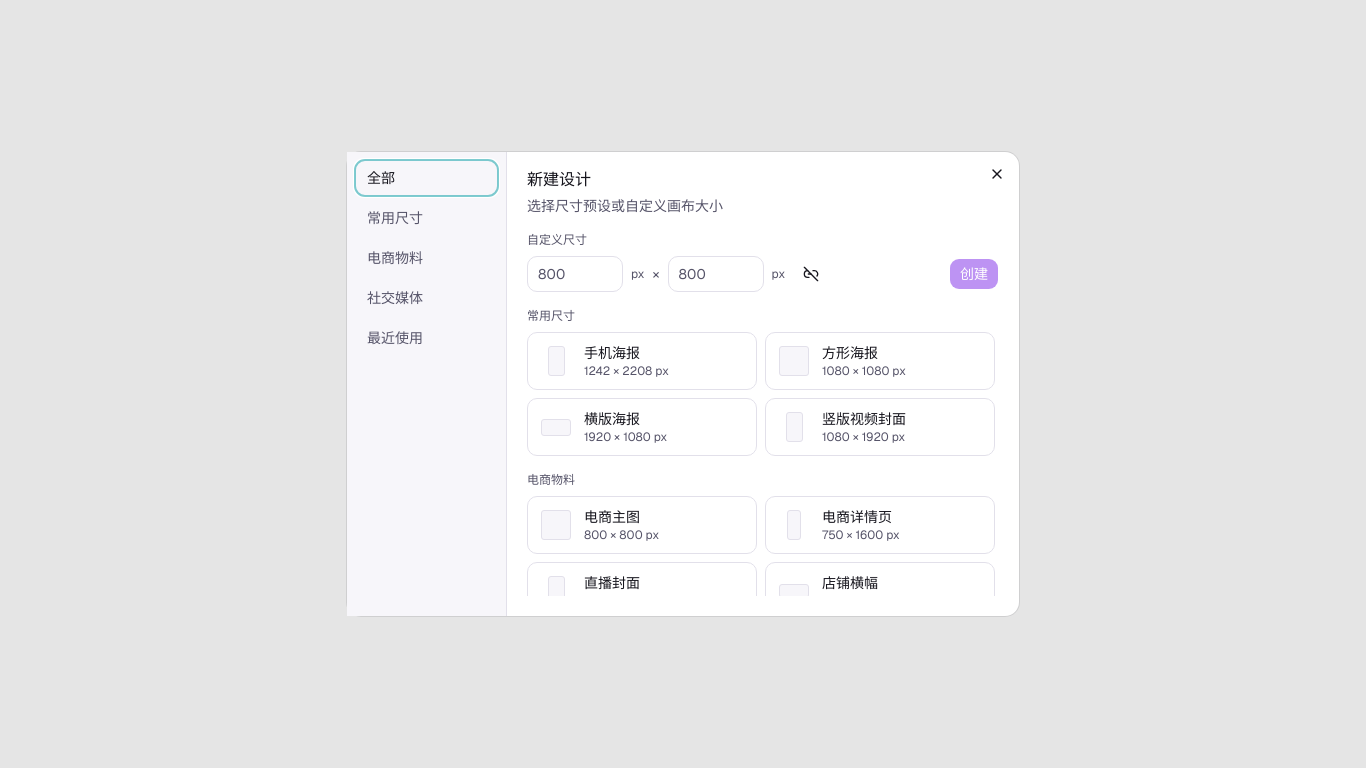
Scenario: 尺寸前置设置弹窗 › 分类切换：社交媒体只显示该组预设
What coordinates should you click on to do the following:
click the button with test id "design-category-social"
I would click on:
 (426, 298)
Its box is top-left (355, 280), bottom-right (498, 316).
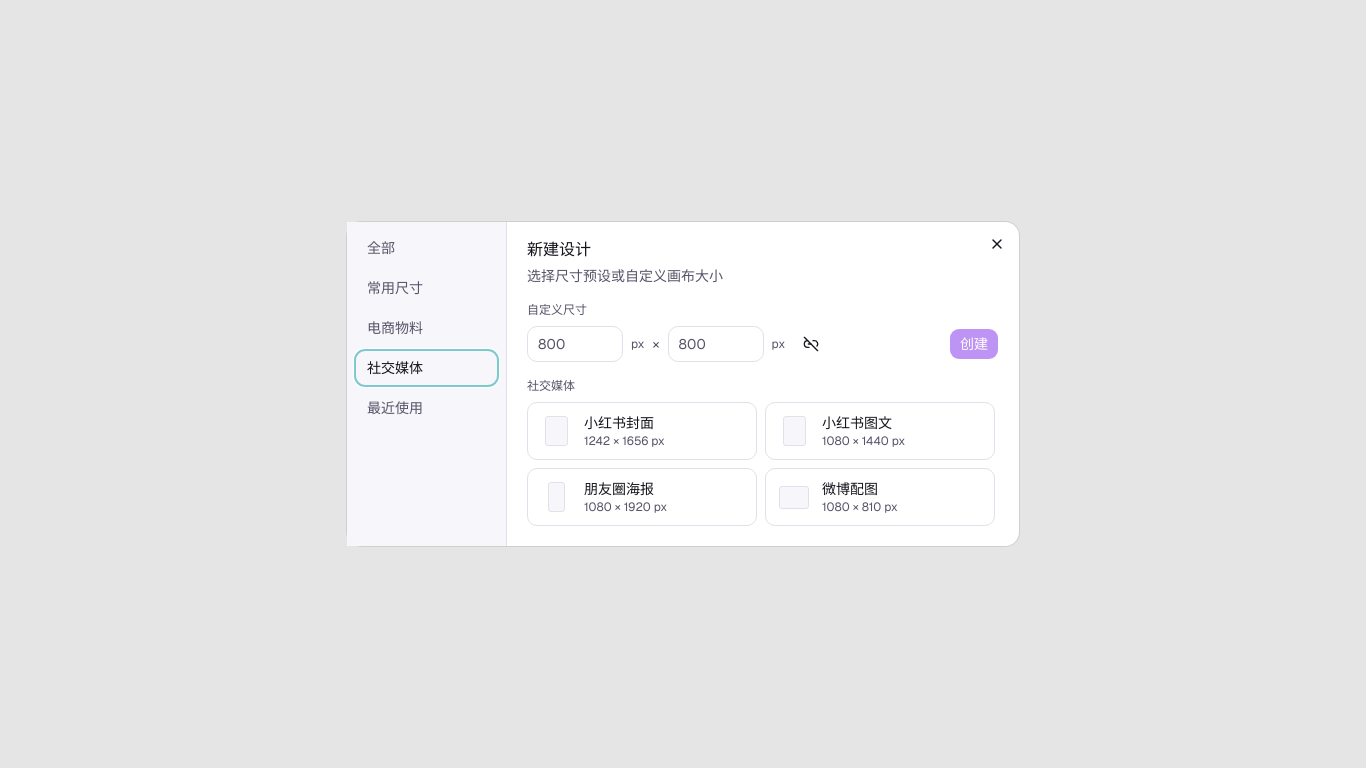
Result: the button with test id "design-preset-xhs-cover" is shown at top-left (527, 402), bottom-right (757, 460)
Result: the button with test id "design-preset-main-image" is gone
